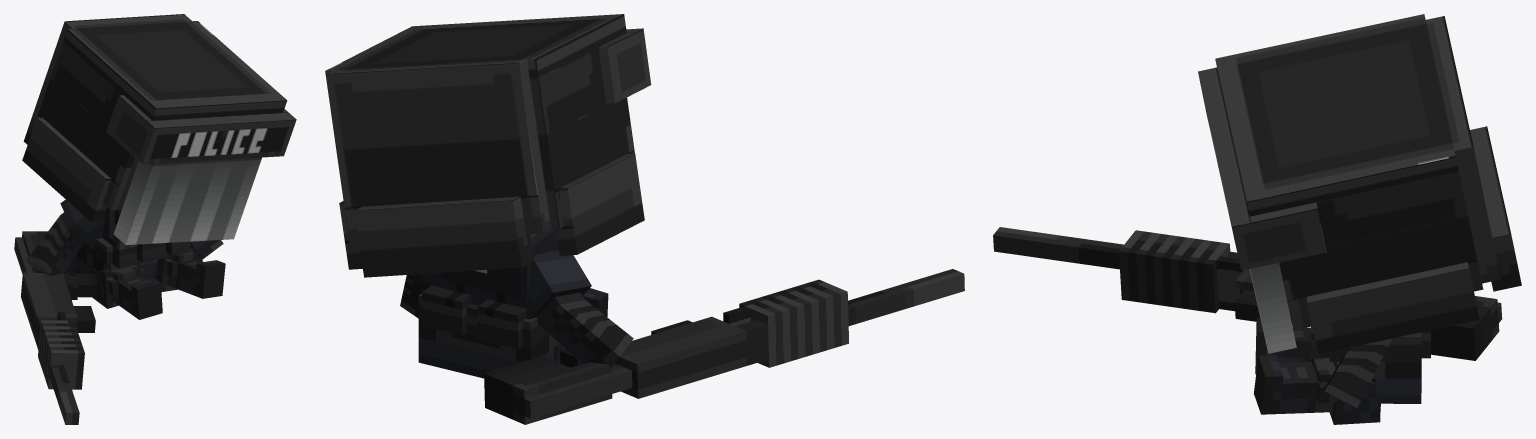
Rendered from Police_die1.fbx.
3 views of the same model, side by side, from view 1: azimuth 30°, elevation 25°; view 2: azimuth 150°, elevation 25°; view 3: azimuth 270°, elevation 25° (orthographic). The views are drawn at different scales.
Visible parts, largest first — view 1: Police_die1; view 2: Police_die1; view 3: Police_die1.
Part boxes in pixels (<box>): Police_die1: <box>14,14,296,424</box>; Police_die1: <box>325,14,964,424</box>; Police_die1: <box>993,14,1521,424</box>.
Size of the model in its own units: 54.15 by 42.35 by 57.43.
